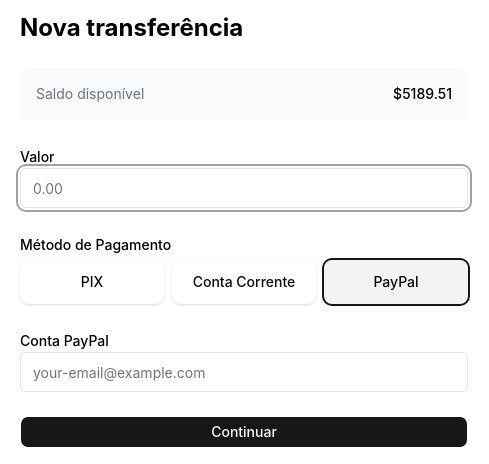
Test: TransactionForm › should format amount input correctly
Type "1234" into the field labelled "Valor".
click(244, 188); type("1234")  # box [20, 168, 468, 208]
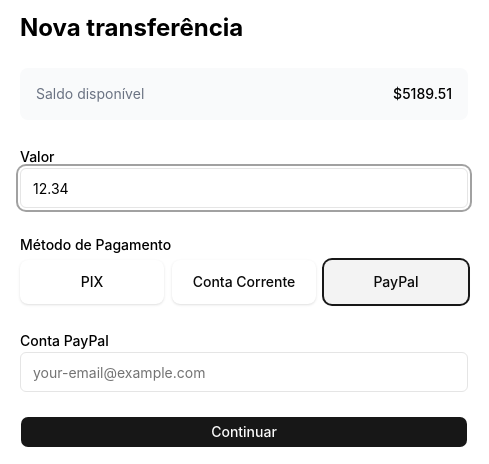
Now the field labelled "Valor" holds "12.34", box [20, 168, 468, 208]
